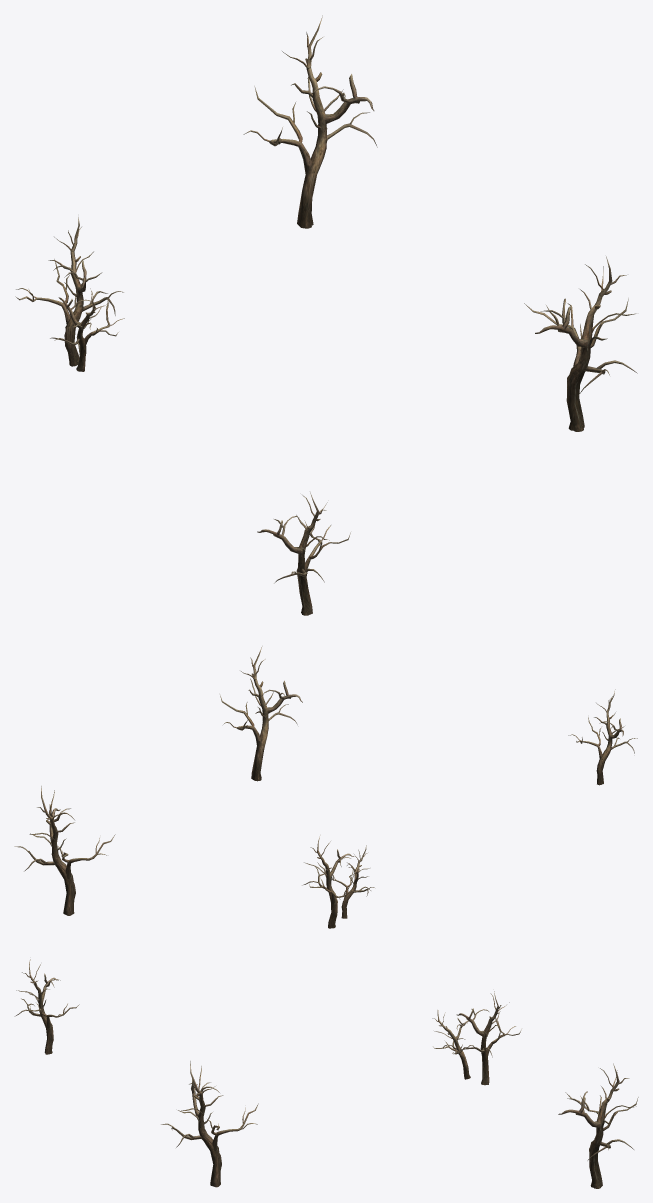
Rendered from kushu05.fbx.
3 views of the same model, one above another, from view 1: azimuth 30°, elevation 25°; view 2: azimuth 150°, elevation 25°; view 3: azimuth 270°, elevation 25° (orthographic). The views are drawn at different scales.
Visible parts, largest first — view 1: kushu05; view 2: kushu05; view 3: kushu05.
Boxes of the visible parts, x1=… form: kushu05: x1=15, y1=15, x2=637, y2=615; kushu05: x1=14, y1=646, x2=637, y2=928; kushu05: x1=14, y1=959, x2=638, y2=1188.
Bounding box in the file's own units: 3683 × 1365 × 5634.
1 material, 1 textured.
